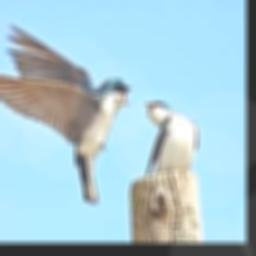Swallow: (0, 24, 132, 206), (145, 100, 199, 175)
